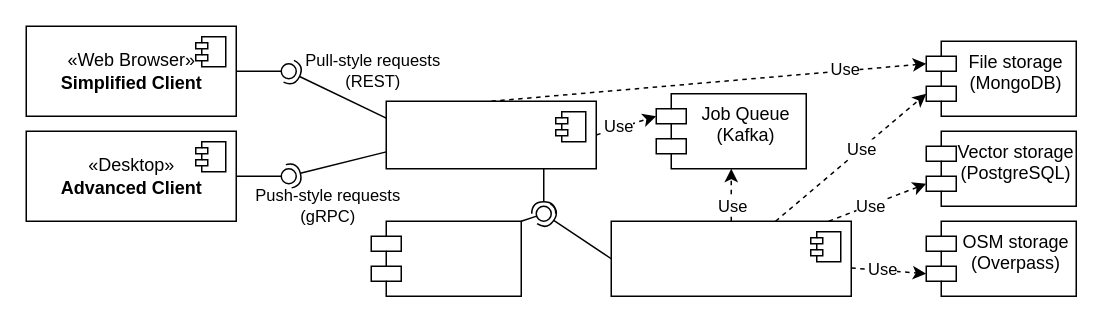
Image size: 1103x323. Some labels were removed from this diagram. The shapes that lost their labels are listed below. From the top down, each one's centre as x and y in pixels, then its label:
point (490, 134): API
point (445, 258): Cache (Results Queue)
point (730, 258): «Software Agents» Workers
